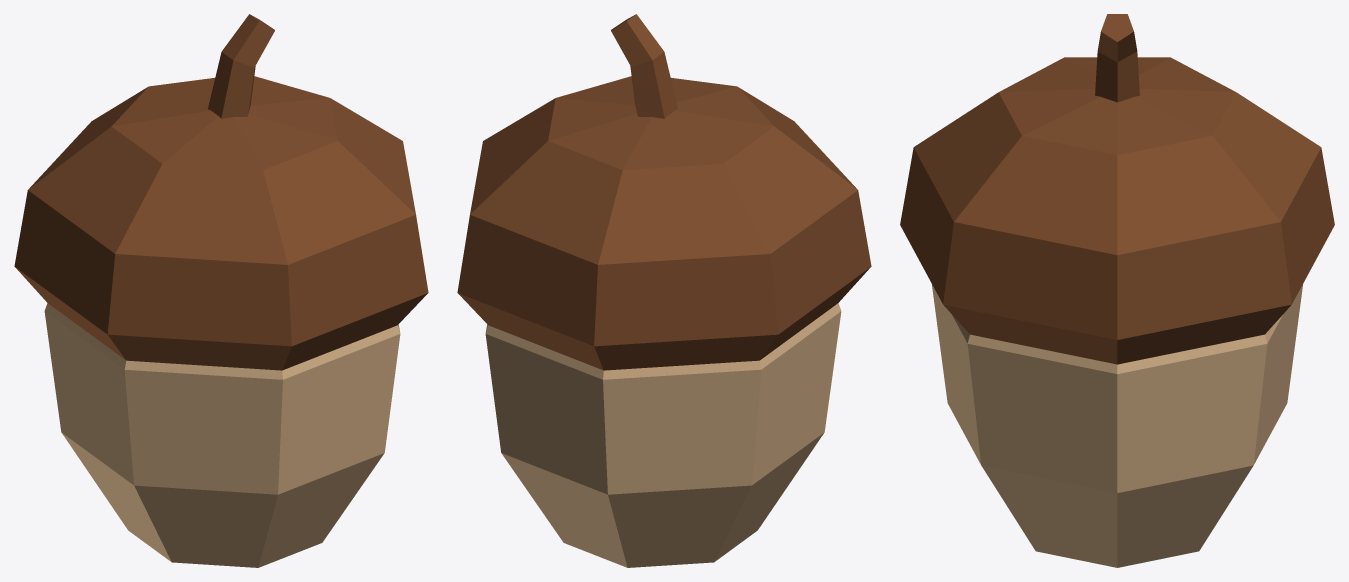
File: perch_acorn.glb
3 renders of one model, left to right at view 1: azimuth 30°, elevation 25°; view 2: azimuth 150°, elevation 25°; view 3: azimuth 270°, elevation 25°, orthographic. The views are drawn at different scales.
Parts seen in each view (by area): view 1: body; view 2: body; view 3: body.
Boxes of the visible parts, <box> form: body: <box>14,14,428,567</box>; body: <box>457,14,871,567</box>; body: <box>900,14,1334,567</box>.
Bounding box in the file's own units: 0.1825 × 0.2663 × 0.1872.
